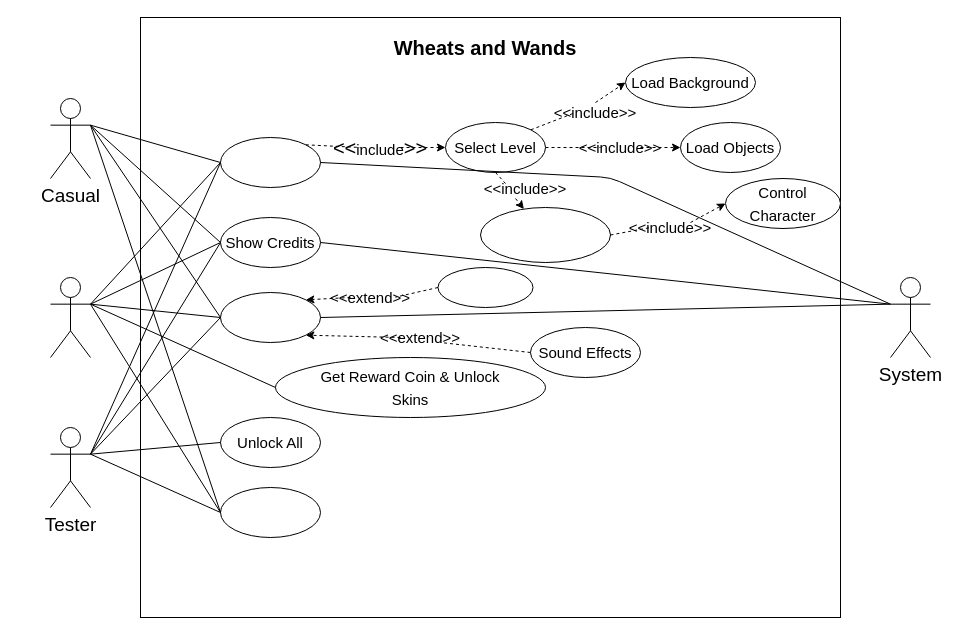
Some shapes in this 977 by 635 pixel diagram are drawn without their labels. The centre of each missing label's shape, as x and y in pixels:
"Exit Game" goes at (270,512).
"Experienced" goes at (70,317).
"Load Character Sprite" goes at (545,234).
"Music" goes at (485,287).
"Options" goes at (270,317).
"Play Game" goes at (270,162).
